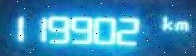0: (93, 15, 115, 44)
1: (13, 13, 27, 44), (37, 11, 47, 44)
2: (115, 14, 140, 45)
9: (68, 14, 92, 44), (47, 14, 68, 44)
X: (158, 14, 172, 31), (173, 18, 188, 31)
